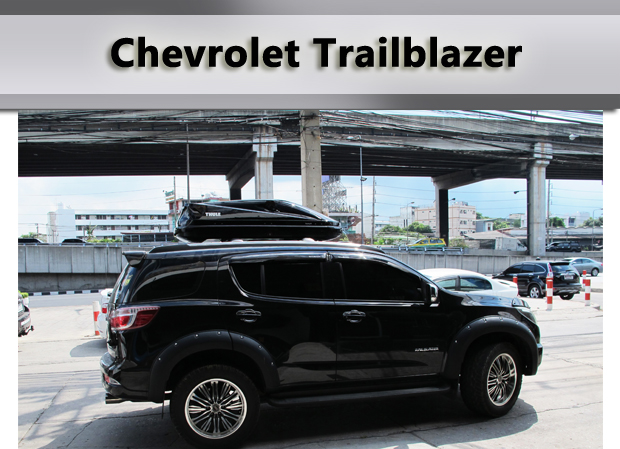pickup: (100, 241, 544, 448)
